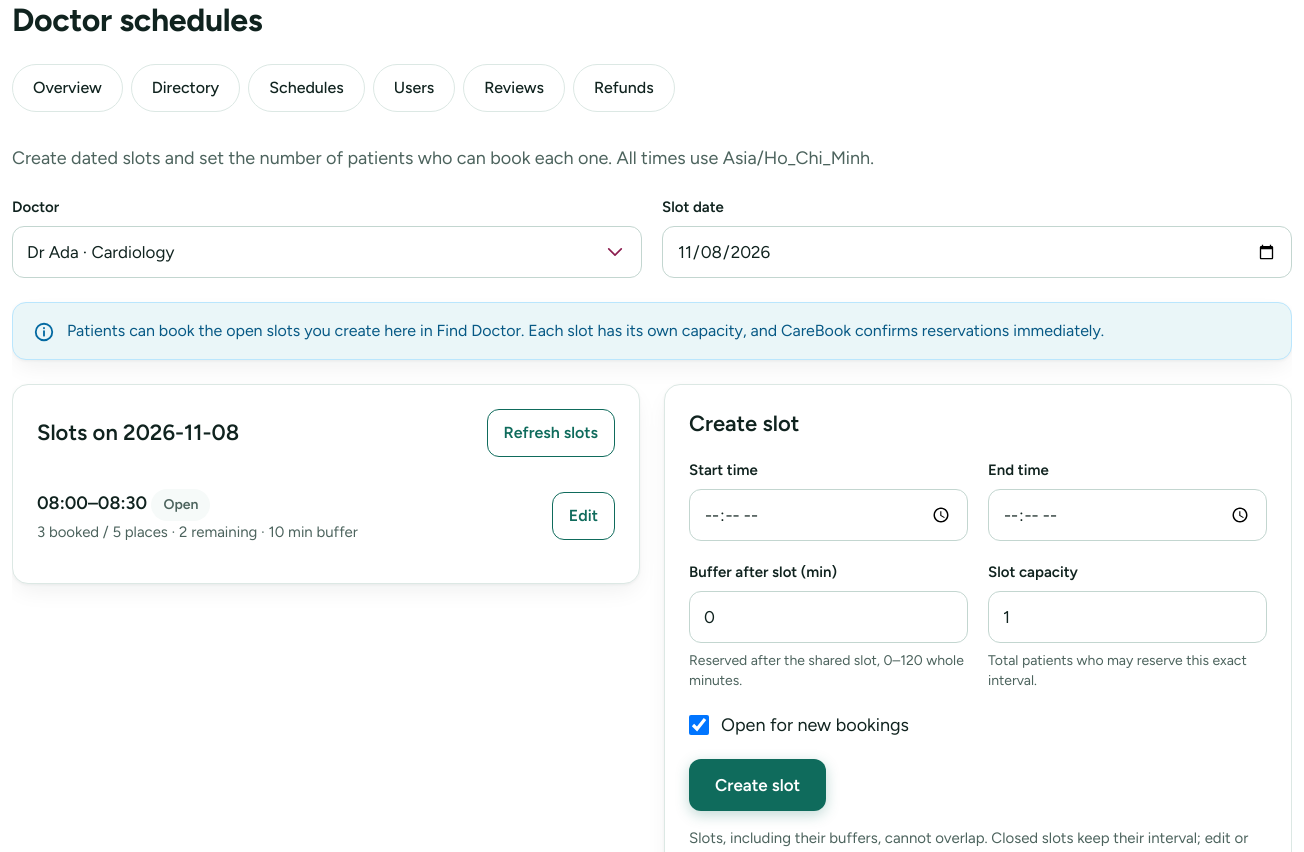
Test: locks booked times and submits versioned capacity/closure edits
The image size is (1304, 852).
Click the button with aria-label "Edit slot 08:00": [583, 516] box [552,492,615,540]
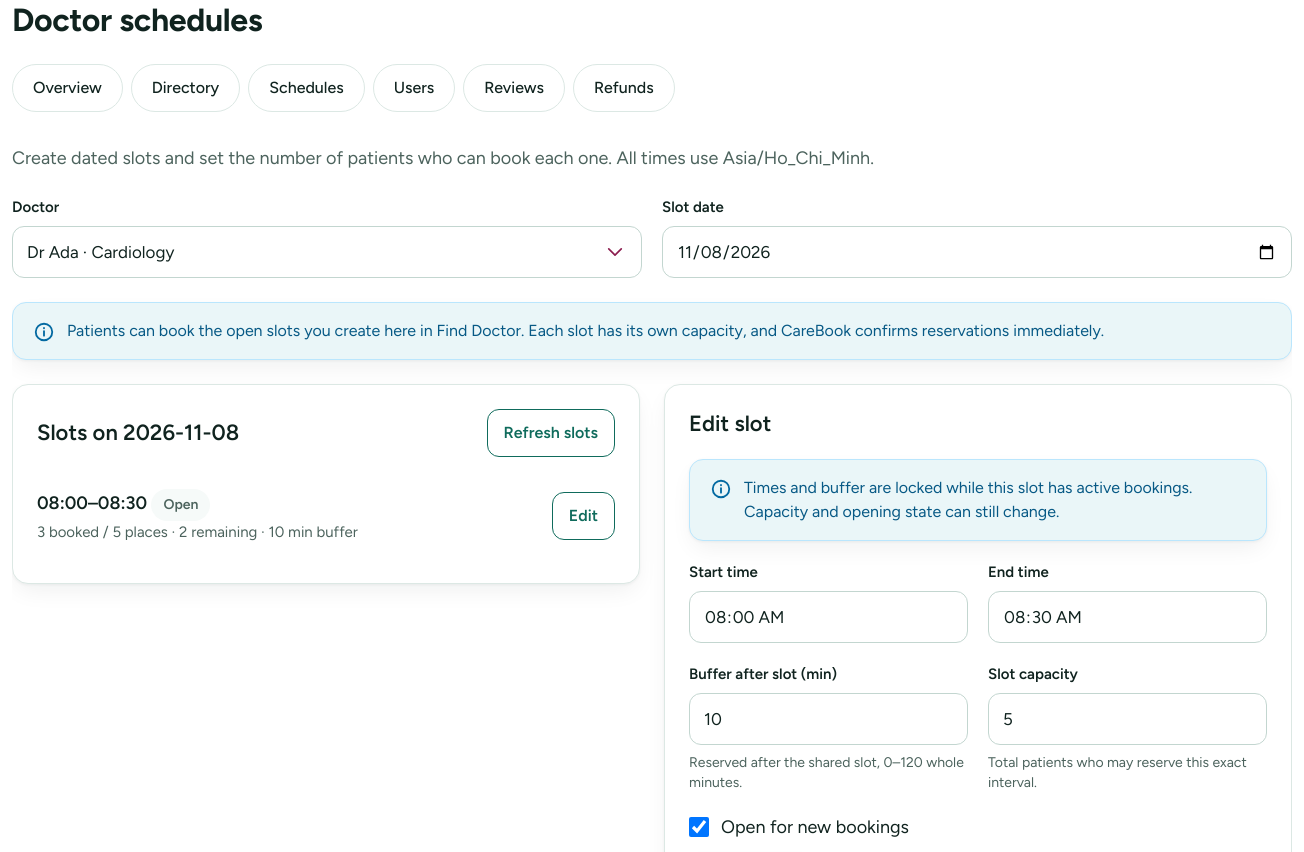
Expected: the time field labelled "Start time" has attribute readonly, [689,591,968,643]
Expected: the time field labelled "End time" has attribute readonly, [988,591,1267,643]
Expected: the number field labelled "Buffer after slot (min)" has attribute readonly, [689,693,968,745]
Replace the text in the number field labelled "Slot capacity" with "1": [1128, 719] box [988,693,1267,745]
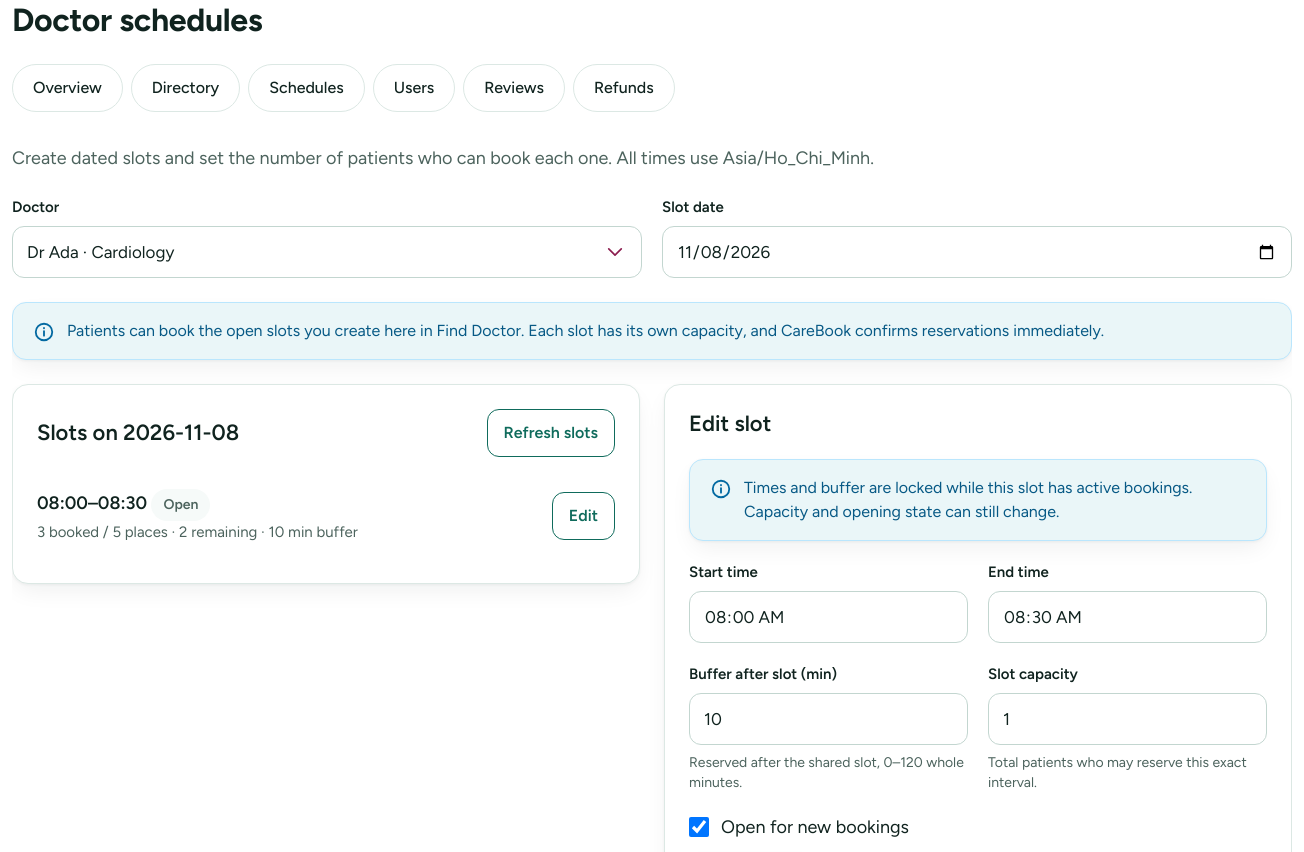
Click the checkbox labelled "Open for new bookings": [699, 827] box [689,817,709,837]
(page scrolled)
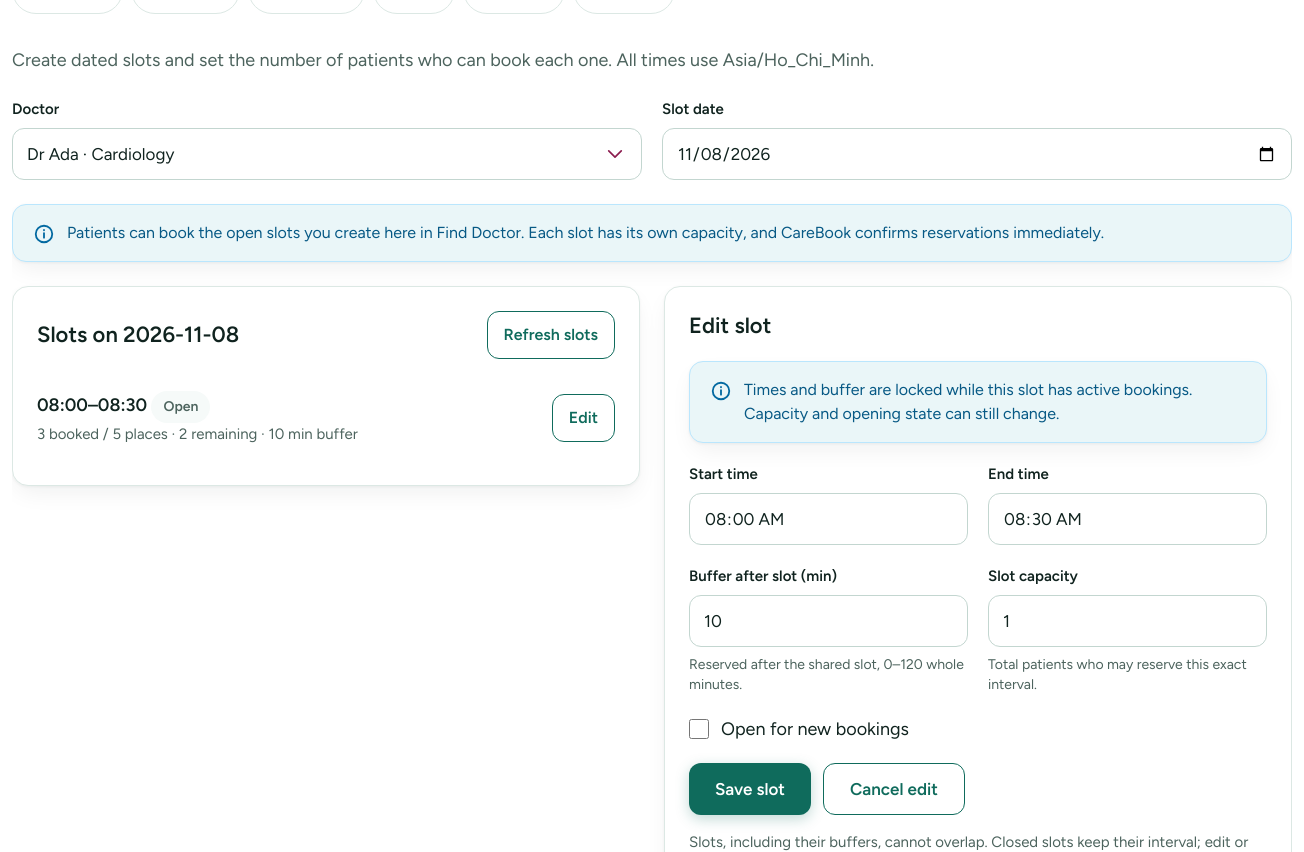
Click the button "Save slot": [750, 789] box [689,763,811,815]
(page scrolled)
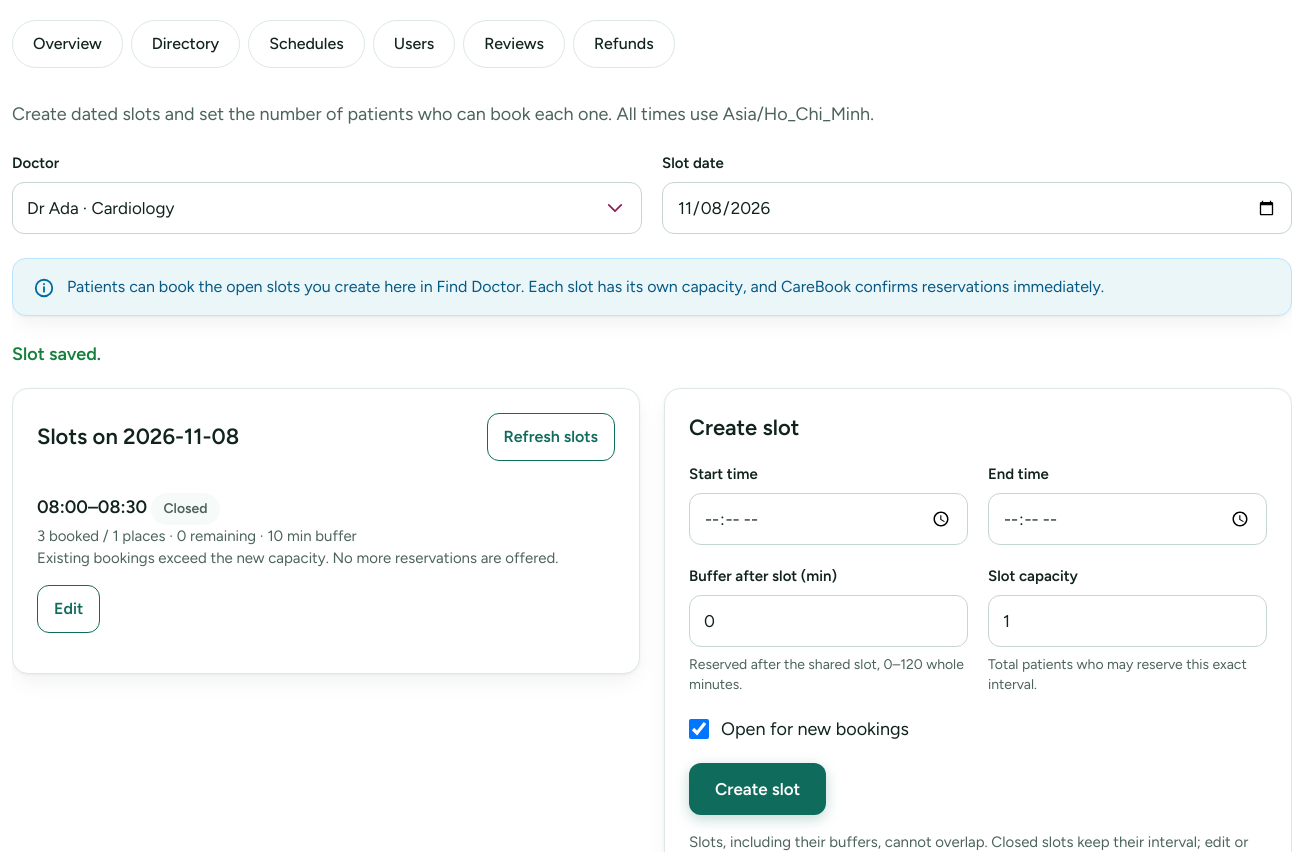
Expected: the text "Existing bookings exceed the new capacity" is shown, [37,549,558,567]
